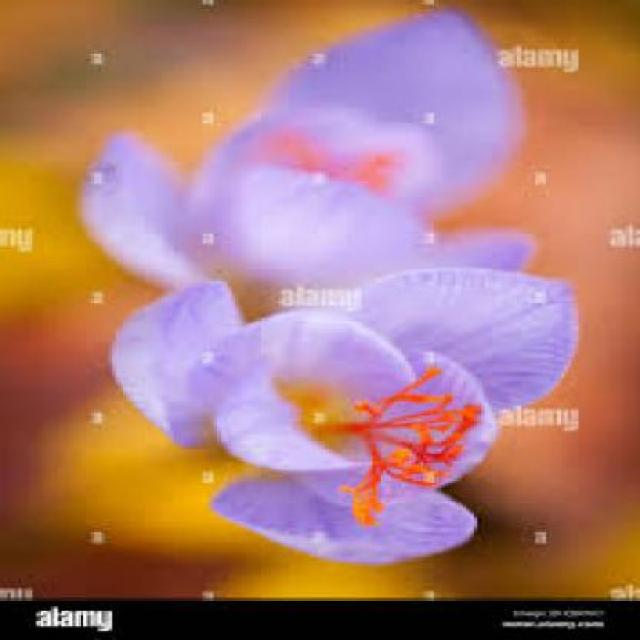saffron open: (112, 281, 495, 563)
